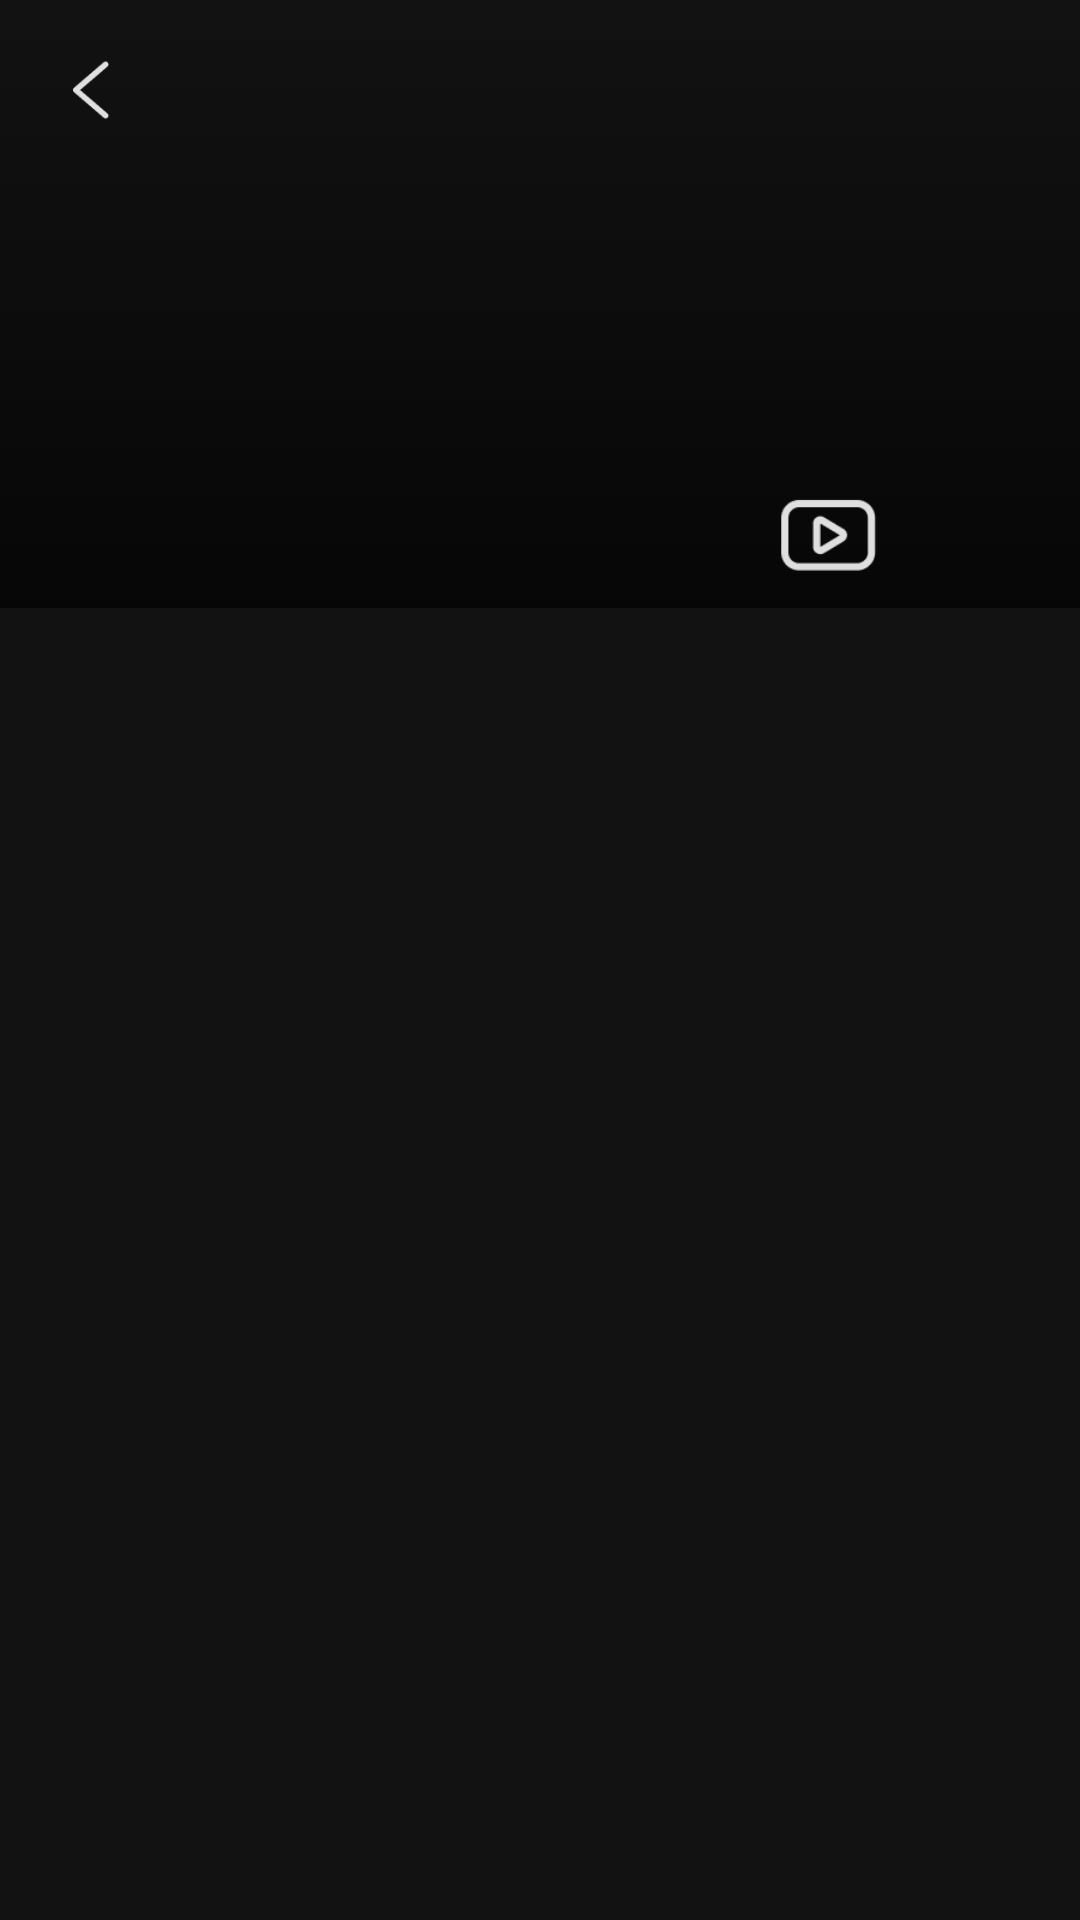

Where icons sit on this 1080px x 1920px app screen, as (x1=x1, y1=y1, x2=x2, y2=y2):
before: (x1=73, y1=61, x2=109, y2=119)
